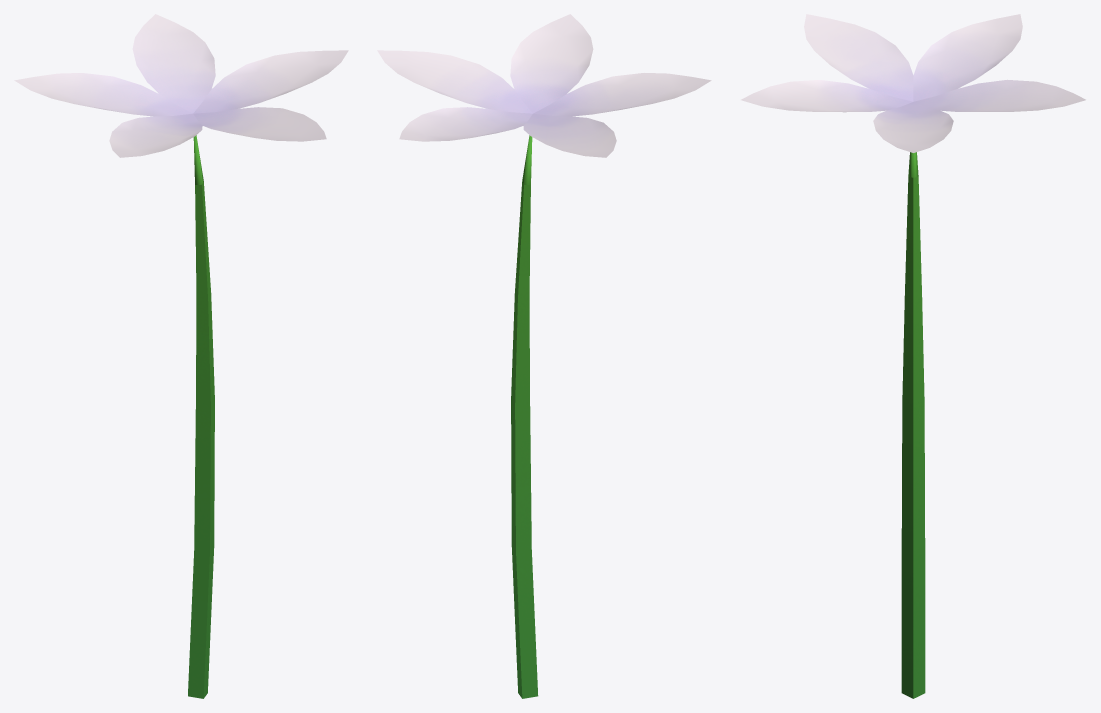
File: env_littleFlower_export_01.fbx
3 renders of one model, left to right at view 1: azimuth 30°, elevation 25°; view 2: azimuth 150°, elevation 25°; view 3: azimuth 270°, elevation 25°, orthographic.
Visible parts, largest first — view 1: pPlane1; view 2: pPlane1; view 3: pPlane1.
Part boxes in pixels (x1,y1,x2,y2): pPlane1: (14,14,348,698); pPlane1: (377,14,711,698); pPlane1: (741,14,1085,698).
Bounding box in the file's own units: 2.18 × 4.5 × 2.3.
1 material, 1 textured.
